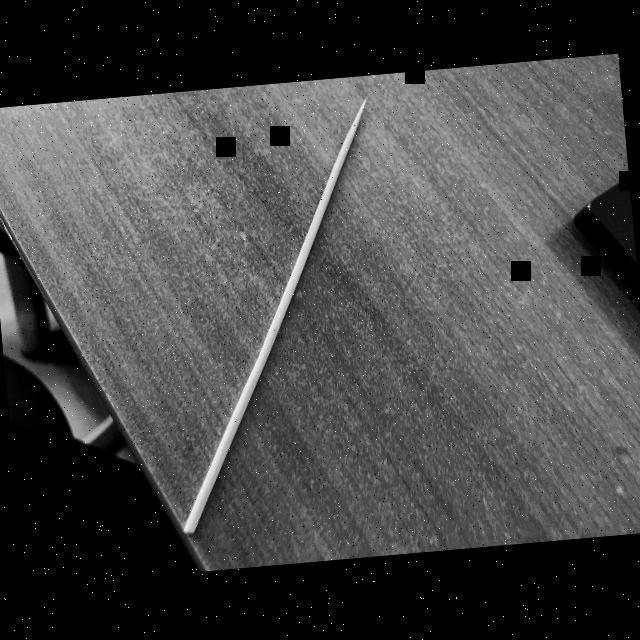stick: (128, 80, 418, 548)
